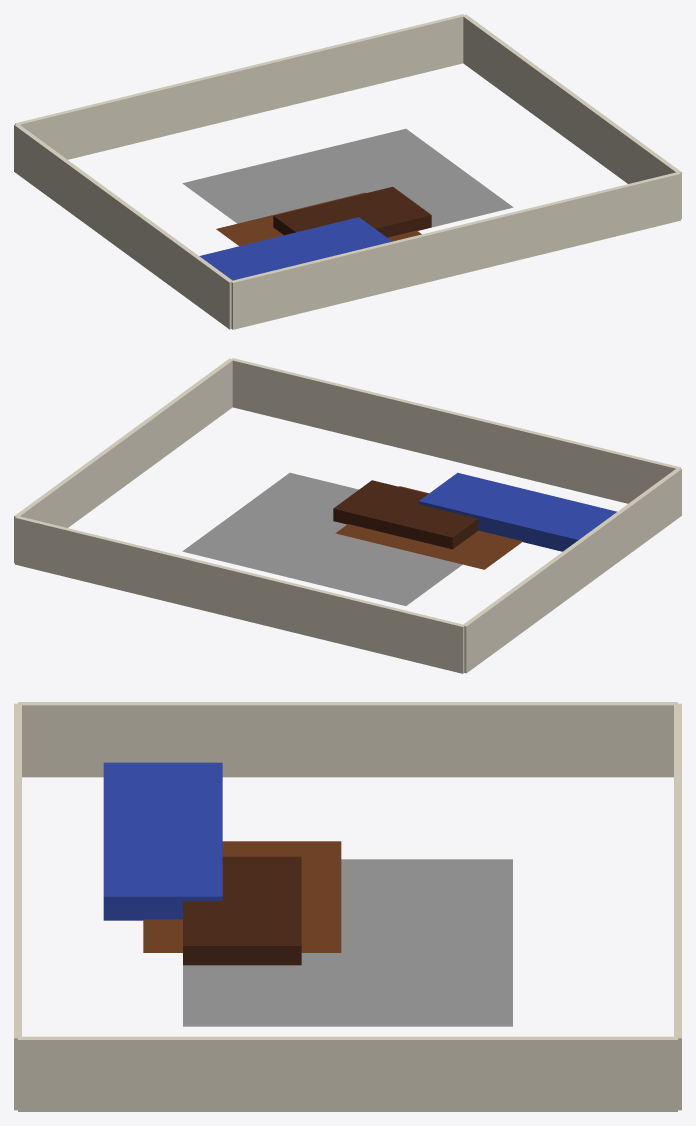
File: boq_professional_15ff617b-c6df-41ab-986c-4bcd466318d0.obj
3 views of the same model, one above another, from view 1: azimuth 30°, elevation 25°; view 2: azimuth 150°, elevation 25°; view 3: azimuth 270°, elevation 25° (orthographic). The views are drawn at different scales.
Parts seen in each view (by area): view 1: ExteriorWall_South, ExteriorWall_North, Foundation, ExteriorWall_West, ExteriorWall_East, Sofa_Living_Room, CoffeeTable_Living_Room, Floor_Living_Room; view 2: ExteriorWall_North, ExteriorWall_South, Foundation, ExteriorWall_West, ExteriorWall_East, Sofa_Living_Room, CoffeeTable_Living_Room, Floor_Living_Room; view 3: ExteriorWall_East, ExteriorWall_West, Foundation, Sofa_Living_Room, CoffeeTable_Living_Room, Floor_Living_Room, ExteriorWall_South, ExteriorWall_North.
Boxes of the visible parts, x1=… form: ExteriorWall_South: x1=231, y1=172, x2=680, y2=329; ExteriorWall_North: x1=15, y1=14, x2=464, y2=159; Foundation: x1=182, y1=128, x2=513, y2=227; ExteriorWall_West: x1=14, y1=124, x2=233, y2=329; ExteriorWall_East: x1=463, y1=14, x2=681, y2=219; Sofa_Living_Room: x1=199, y1=217, x2=391, y2=280; CoffeeTable_Living_Room: x1=273, y1=186, x2=431, y2=237; Floor_Living_Room: x1=216, y1=192, x2=421, y2=246; ExteriorWall_North: x1=15, y1=516, x2=464, y2=673; ExteriorWall_South: x1=231, y1=358, x2=680, y2=503; Foundation: x1=182, y1=472, x2=462, y2=605; ExteriorWall_West: x1=462, y1=468, x2=681, y2=673; ExteriorWall_East: x1=14, y1=358, x2=232, y2=563; Sofa_Living_Room: x1=418, y1=472, x2=616, y2=551; CoffeeTable_Living_Room: x1=333, y1=480, x2=478, y2=549; Floor_Living_Room: x1=335, y1=486, x2=522, y2=569; ExteriorWall_East: x1=18, y1=1036, x2=677, y2=1111; ExteriorWall_West: x1=18, y1=702, x2=677, y2=777; Foundation: x1=183, y1=859, x2=512, y2=1026; Sofa_Living_Room: x1=103, y1=762, x2=222, y2=920; CoffeeTable_Living_Room: x1=183, y1=856, x2=301, y2=965; Floor_Living_Room: x1=143, y1=841, x2=341, y2=952; ExteriorWall_South: x1=14, y1=703, x2=21, y2=1110; ExteriorWall_North: x1=674, y1=703, x2=681, y2=1110.
Bounding box in the file's own units: 30.3 × 3 × 25.3.
